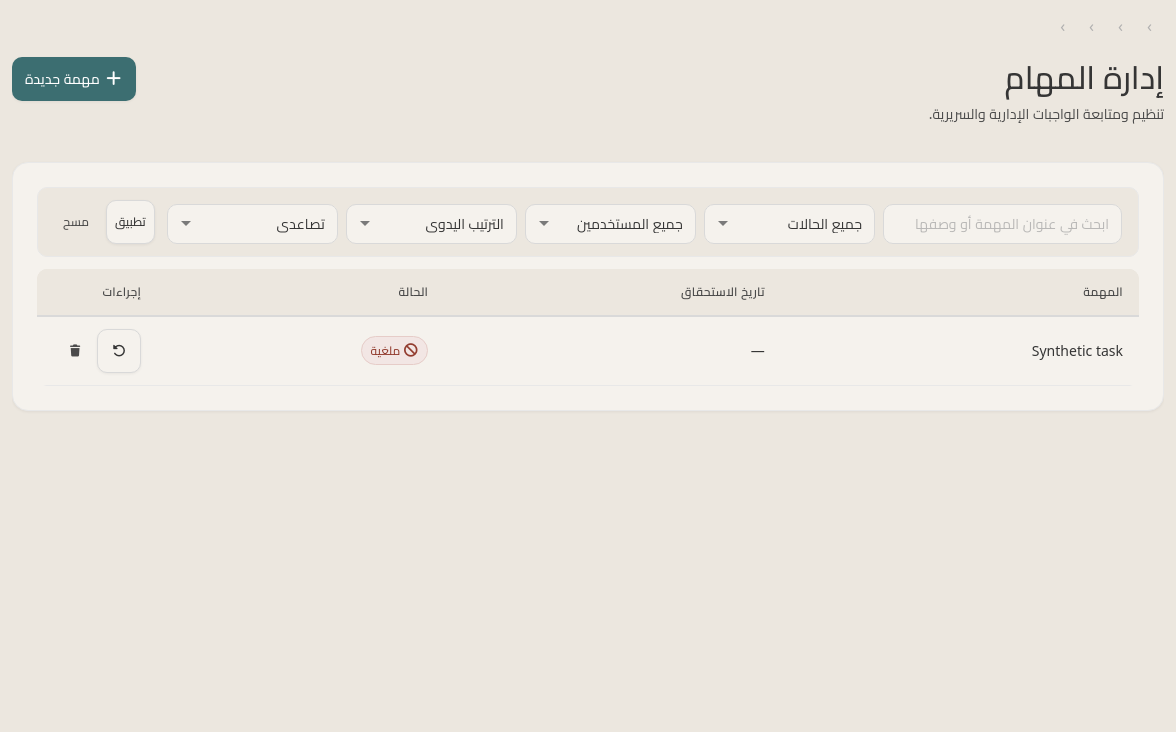
Test: task lifecycle controls preserve the rendered version and draft › confirmed deletion refreshes the rendered list after the store replaces its array
The width and height of the screenshot is (1176, 732).
Step 1. Click the button titled "حذف" → [75, 351], box [53,329,97,373]
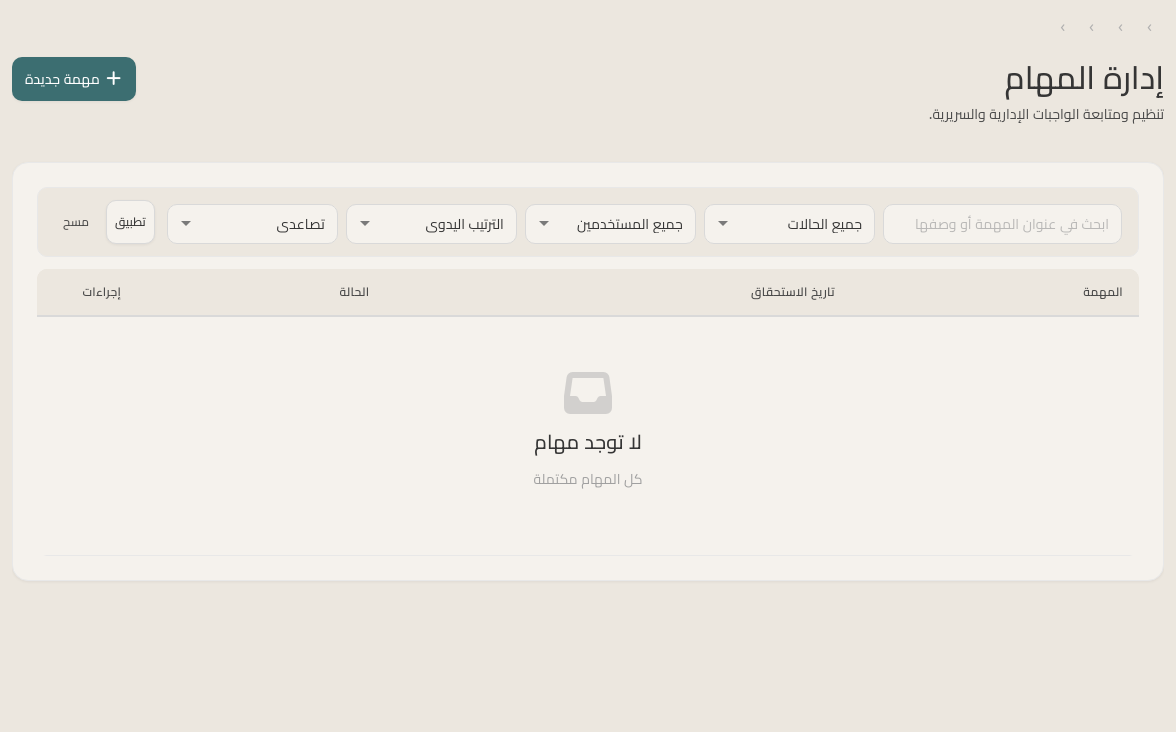
Now the text "Synthetic task" is gone
Now the table shows "لا توجد مهام", box [534,428,642,455]
